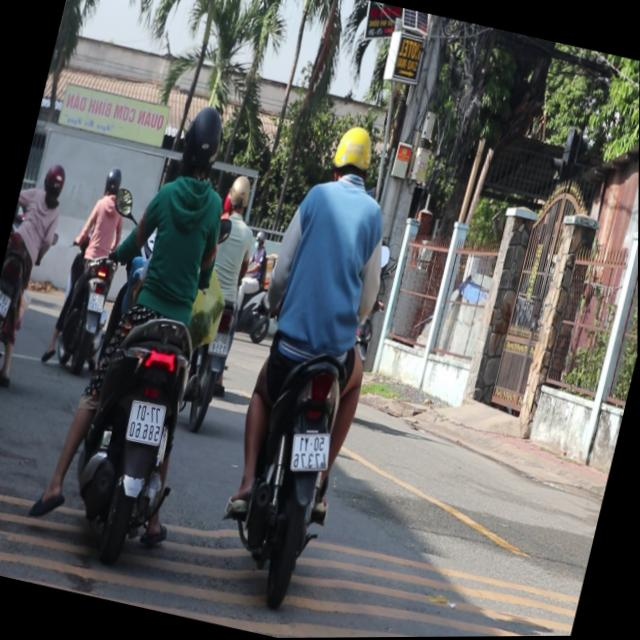helmet: (173, 99, 232, 190), (328, 119, 380, 186), (40, 160, 71, 204), (228, 174, 256, 217), (103, 163, 128, 197)
licenseplate: (197, 105, 428, 605), (33, 86, 266, 566), (169, 170, 277, 430), (44, 158, 142, 375), (0, 155, 77, 395)
nohelmet: (287, 426, 336, 476), (125, 399, 167, 446), (210, 332, 233, 356), (87, 291, 107, 312), (0, 287, 13, 316)
